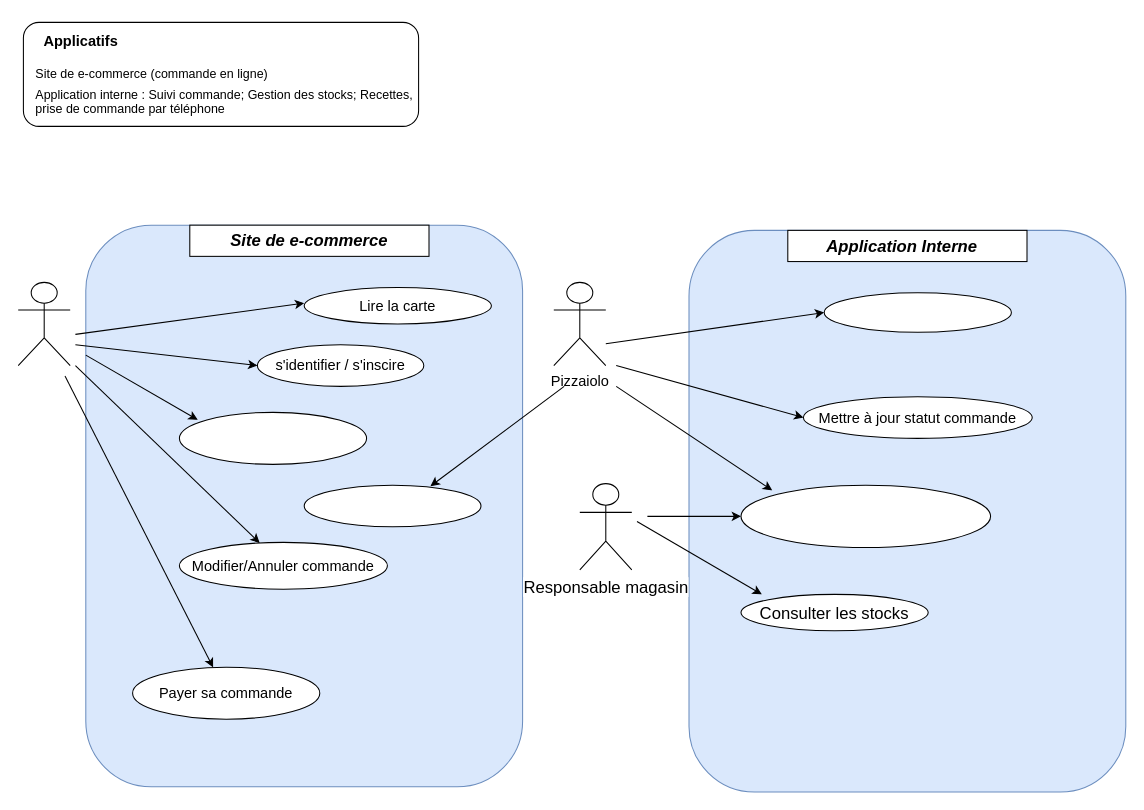
Image size: 1144x810. Some labels were removed from this diagram. The box of each missing label's shape, as (x1, y1, x2, y2) in pixels:
Client: (17, 281, 70, 366)
commander une pizza: (178, 411, 367, 464)
Lire les commandes: (303, 484, 481, 527)
Lire les Recettes: (823, 292, 1011, 332)
Suivre l'historique des commandes: (740, 484, 991, 548)
